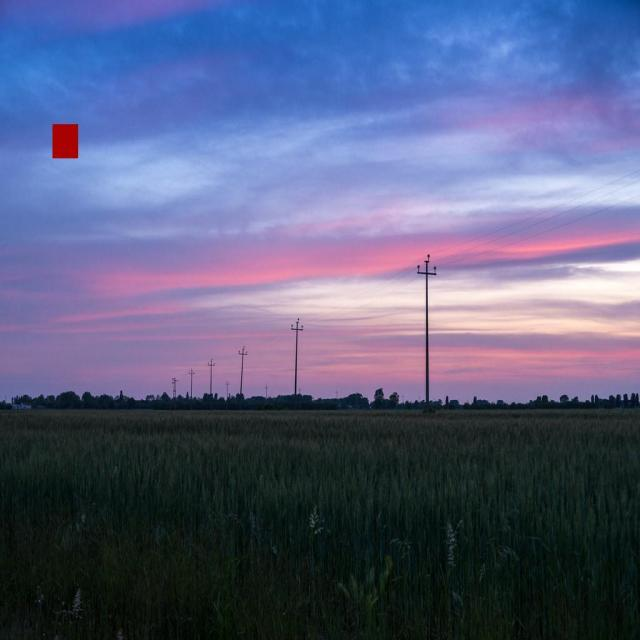RedSquare: (49, 112, 90, 168)
